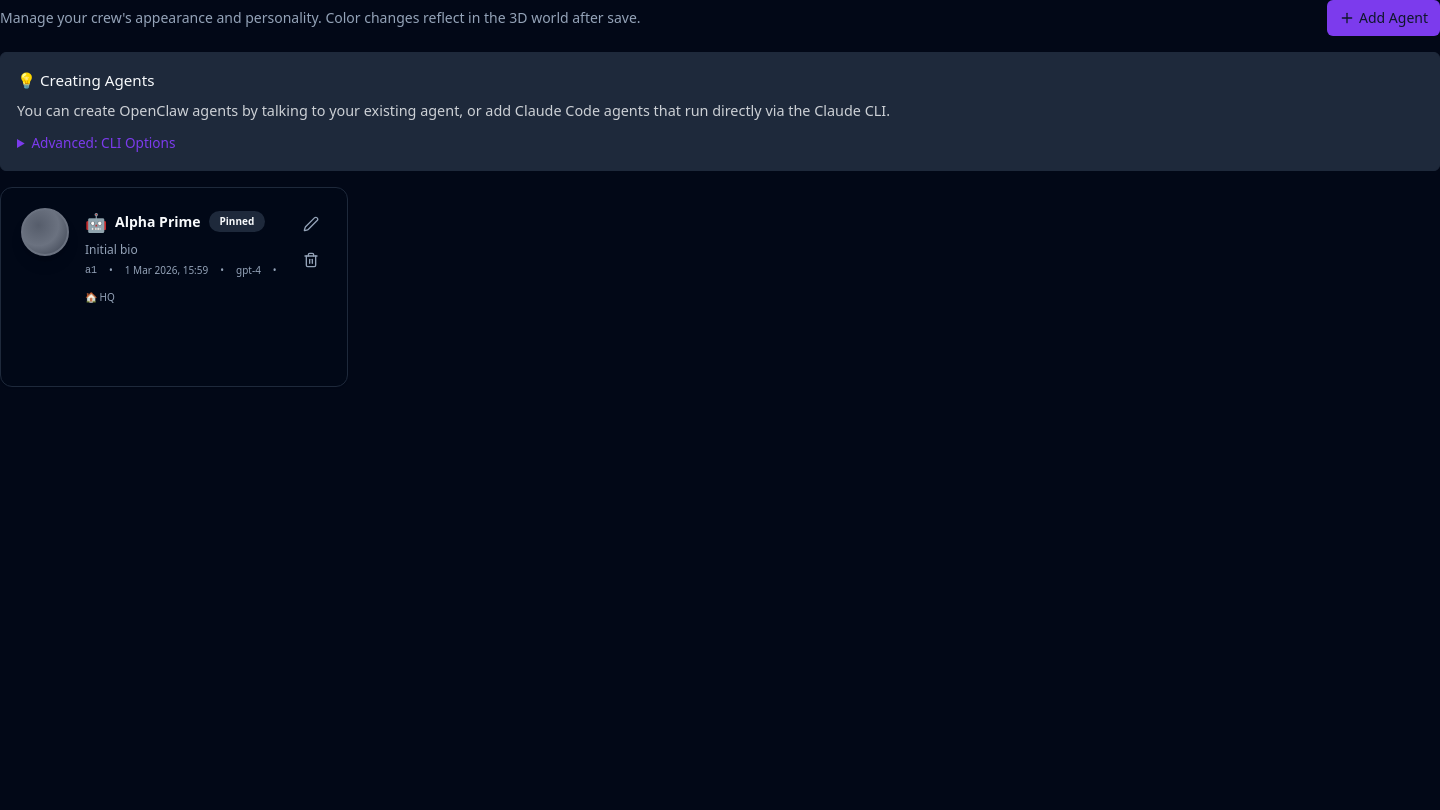
AgentsSettingsTab › delete cancel dialog dismisses without deleting
This screenshot has width=1440, height=810.
expect the heading "Alpha Prime" is shown: met, box [115, 212, 200, 232]
Click the button titled "Delete agent": (311, 260) [295, 244, 327, 276]
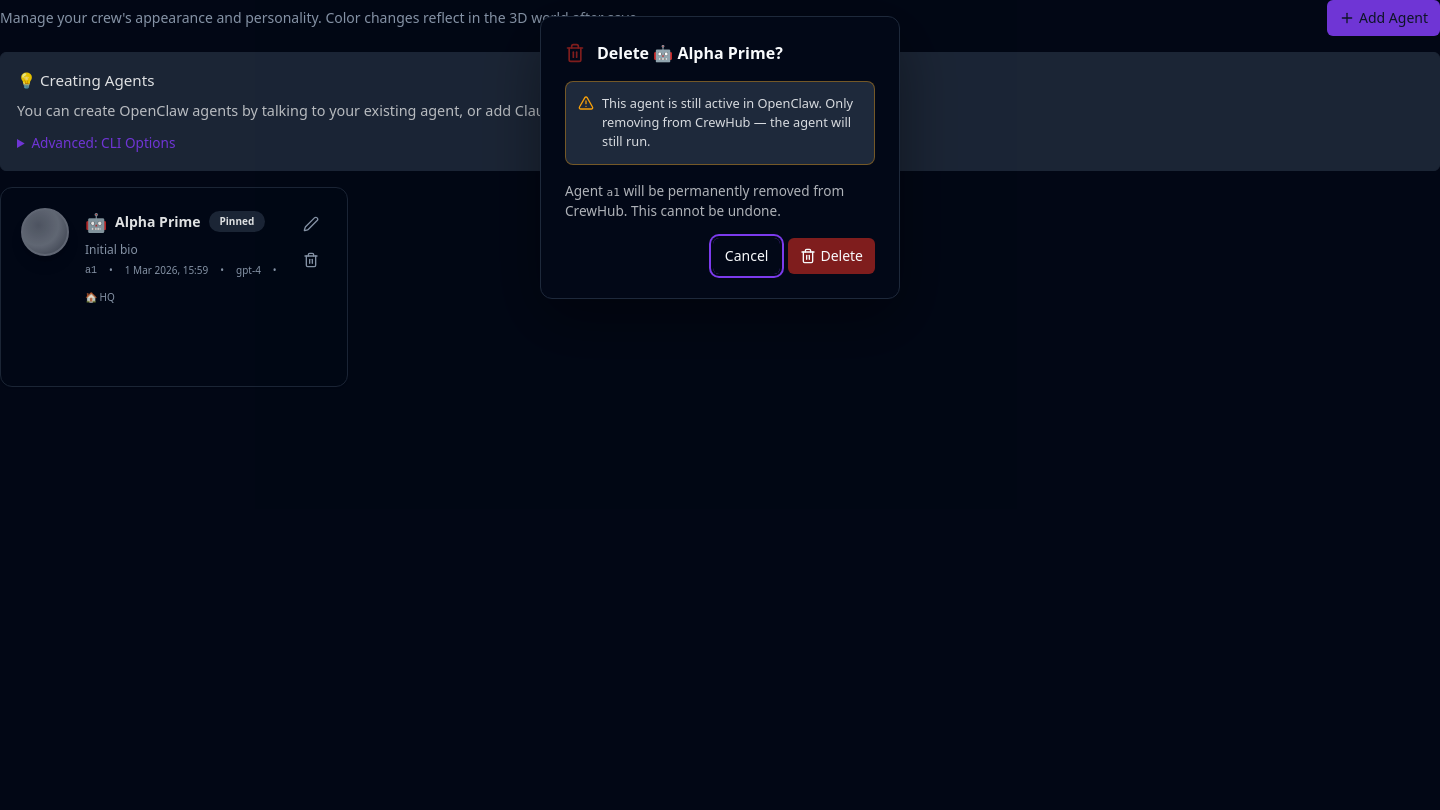
expect the heading "Delete 🤖 Alpha Prime?" is shown: met, box [597, 41, 783, 65]
Click the button "Cancel": (747, 256) [713, 238, 780, 274]
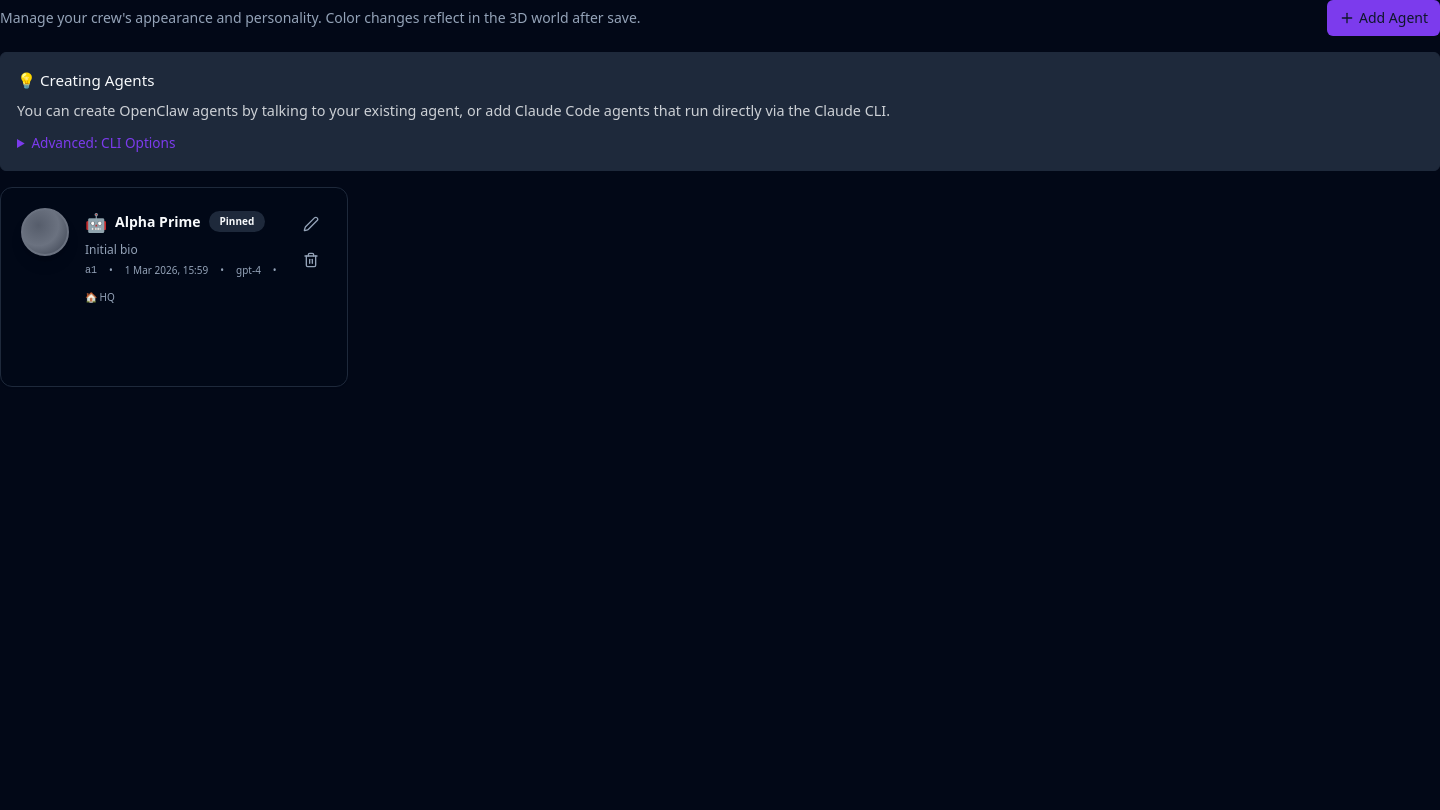
expect the heading "Alpha Prime" is shown: met, box [115, 212, 200, 232]
expect the heading "Delete 🤖 Alpha Prime?" is gone: met
